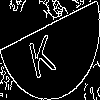K: (25, 25, 57, 80)
